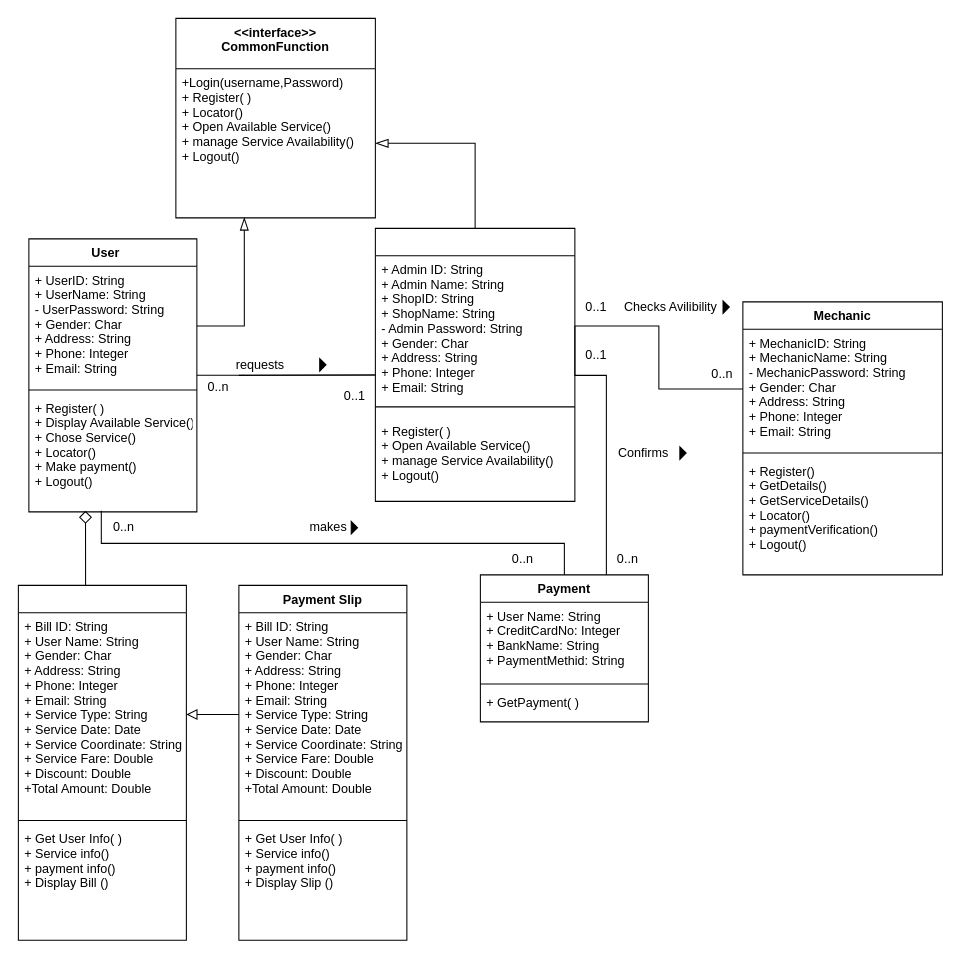
Image size: 961x962. Some labels were removed from this diagram. The box of each missing label's shape, as (x1, y1, x2, y2) in pixels:
Bill info: (17, 584, 186, 940)
Shop Admin: (374, 227, 575, 501)
